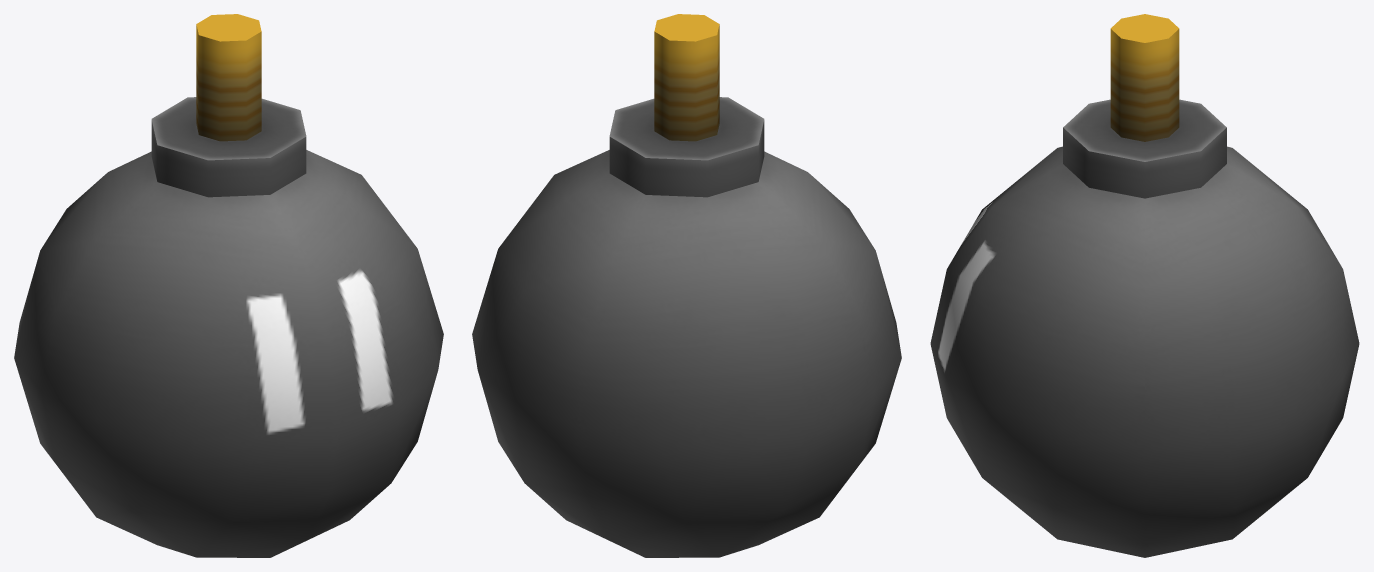
Rendered from Bomb.FBX.
3 renders of one model, left to right at view 1: azimuth 30°, elevation 25°; view 2: azimuth 150°, elevation 25°; view 3: azimuth 270°, elevation 25°, orthographic.
Visible parts, largest first — view 1: Bomb; view 2: Bomb; view 3: Bomb.
Boxes of the visible parts, x1,y1,x2,y2 form: Bomb: (14, 14, 443, 557); Bomb: (472, 14, 901, 557); Bomb: (930, 14, 1359, 557).
Size of the model in its own units: 95.38 by 125 by 95.38.
